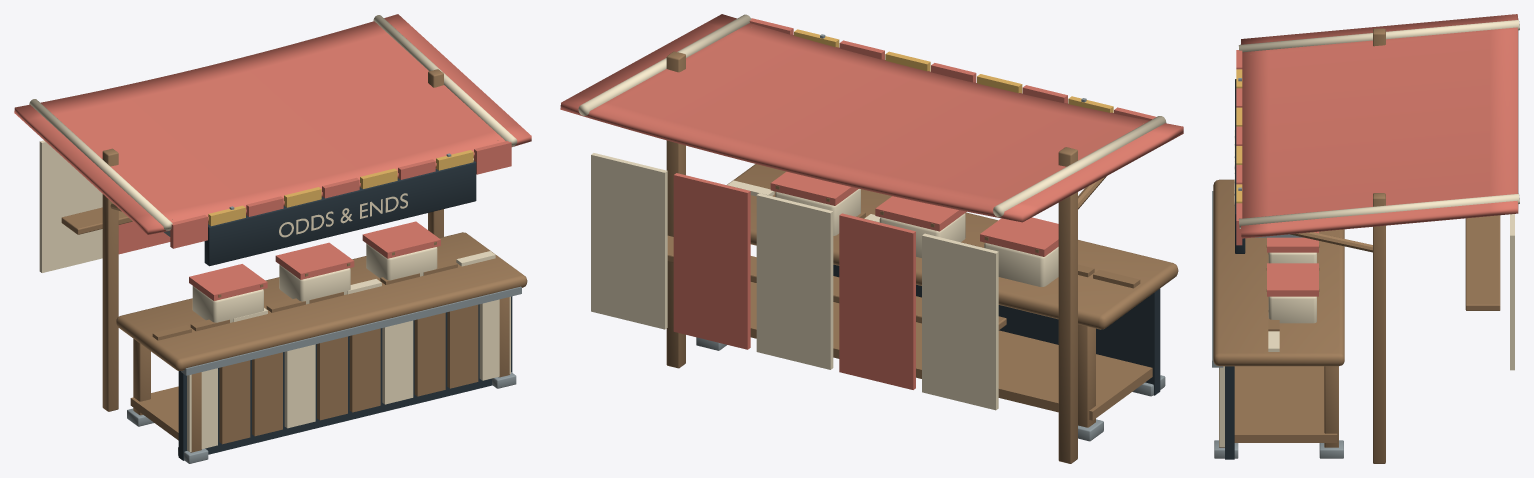
Rendered from AH03_StallSupplies.fbx.
3 renders of one model, left to right at view 1: azimuth 30°, elevation 25°; view 2: azimuth 150°, elevation 25°; view 3: azimuth 270°, elevation 25°, orthographic. The views are drawn at different scales.
Parts seen in each view (by area): view 1: AH03_StallSupplies_AH03_CanvasRose, AH03_StallSupplies_AH03_Wood, AH03_StallSupplies_AH03_Dark, AH03_StallSupplies_AH03_CanvasCream, AH03_StallSupplies_AH03_Cream, AH03_StallSupplies_AH03_Metal, AH03_StallSupplies_AH03_CanvasGold; view 2: AH03_StallSupplies_AH03_CanvasRose, AH03_StallSupplies_AH03_CanvasCream, AH03_StallSupplies_AH03_Wood, AH03_StallSupplies_AH03_Dark, AH03_StallSupplies_AH03_CanvasGold, AH03_StallSupplies_AH03_Metal; view 3: AH03_StallSupplies_AH03_CanvasRose, AH03_StallSupplies_AH03_Wood, AH03_StallSupplies_AH03_CanvasCream, AH03_StallSupplies_AH03_Dark, AH03_StallSupplies_AH03_Metal, AH03_StallSupplies_AH03_Cream, AH03_StallSupplies_AH03_CanvasGold.
Part boxes in pixels (bbox=[...]): AH03_StallSupplies_AH03_CanvasRose: bbox=[14, 14, 531, 300]; AH03_StallSupplies_AH03_Wood: bbox=[61, 69, 527, 452]; AH03_StallSupplies_AH03_Dark: bbox=[178, 160, 512, 460]; AH03_StallSupplies_AH03_CanvasCream: bbox=[29, 15, 517, 322]; AH03_StallSupplies_AH03_Cream: bbox=[187, 193, 510, 451]; AH03_StallSupplies_AH03_Metal: bbox=[127, 153, 521, 463]; AH03_StallSupplies_AH03_CanvasGold: bbox=[208, 150, 473, 226]; AH03_StallSupplies_AH03_CanvasRose: bbox=[560, 14, 1183, 389]; AH03_StallSupplies_AH03_CanvasCream: bbox=[578, 14, 1166, 410]; AH03_StallSupplies_AH03_Wood: bbox=[666, 27, 1178, 463]; AH03_StallSupplies_AH03_Dark: bbox=[833, 264, 1160, 395]; AH03_StallSupplies_AH03_CanvasGold: bbox=[794, 29, 1113, 112]; AH03_StallSupplies_AH03_Metal: bbox=[696, 34, 1165, 441]; AH03_StallSupplies_AH03_CanvasRose: bbox=[1236, 14, 1518, 296]; AH03_StallSupplies_AH03_Wood: bbox=[1213, 28, 1500, 463]; AH03_StallSupplies_AH03_CanvasCream: bbox=[1238, 20, 1519, 370]; AH03_StallSupplies_AH03_Dark: bbox=[1225, 79, 1245, 459]; AH03_StallSupplies_AH03_Metal: bbox=[1212, 78, 1343, 458]; AH03_StallSupplies_AH03_Cream: bbox=[1219, 130, 1279, 446]; AH03_StallSupplies_AH03_CanvasGold: bbox=[1236, 69, 1242, 203].
Bounding box in the file's own units: 531 × 348 × 356.
